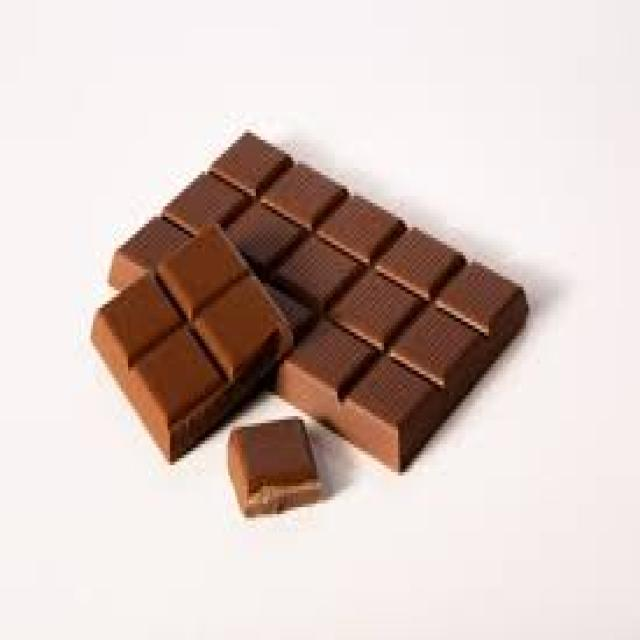Chocolate: (105, 127, 531, 479), (94, 215, 295, 467), (225, 415, 323, 520)
